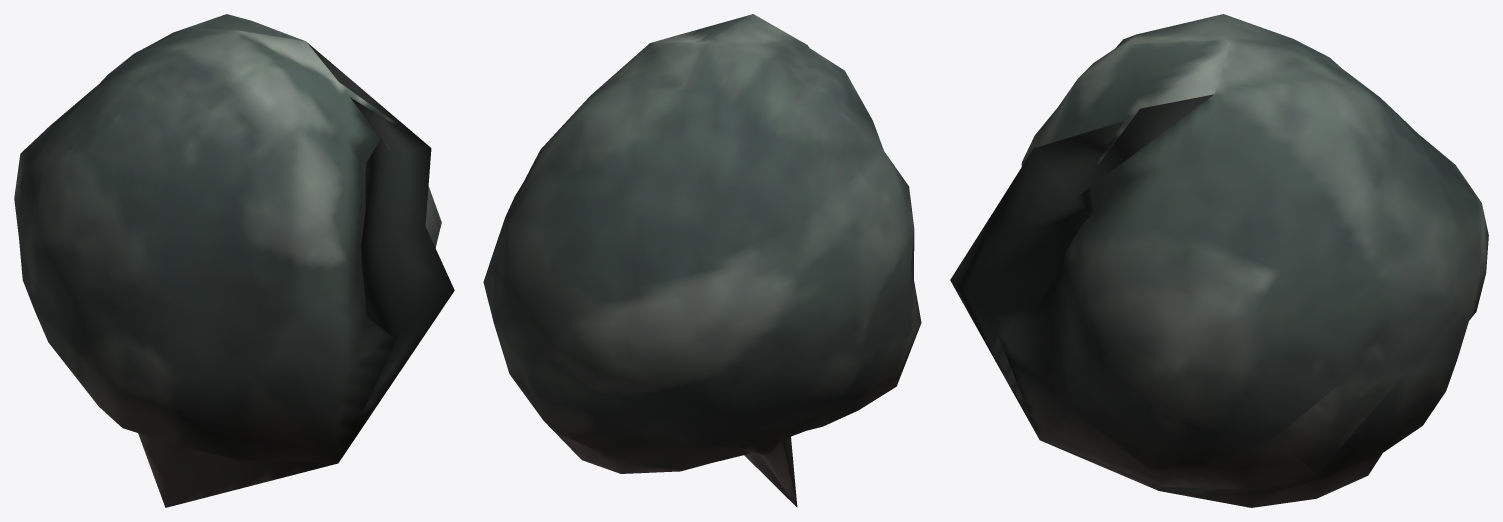
The model's file is Rock00.fbx.
3 views of the same model, side by side, from view 1: azimuth 30°, elevation 25°; view 2: azimuth 150°, elevation 25°; view 3: azimuth 270°, elevation 25° (orthographic). The views are drawn at different scales.
Visible parts, largest first — view 1: rock_lp; view 2: rock_lp; view 3: rock_lp.
Part boxes in pixels (x1,y1,x2,y2): rock_lp: [14, 14, 454, 507]; rock_lp: [483, 14, 921, 507]; rock_lp: [950, 14, 1488, 507].
Size of the model in its own units: 28.72 by 32.89 by 33.56.
